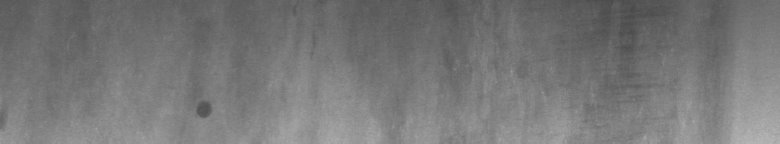fi: (192, 96, 216, 124)
